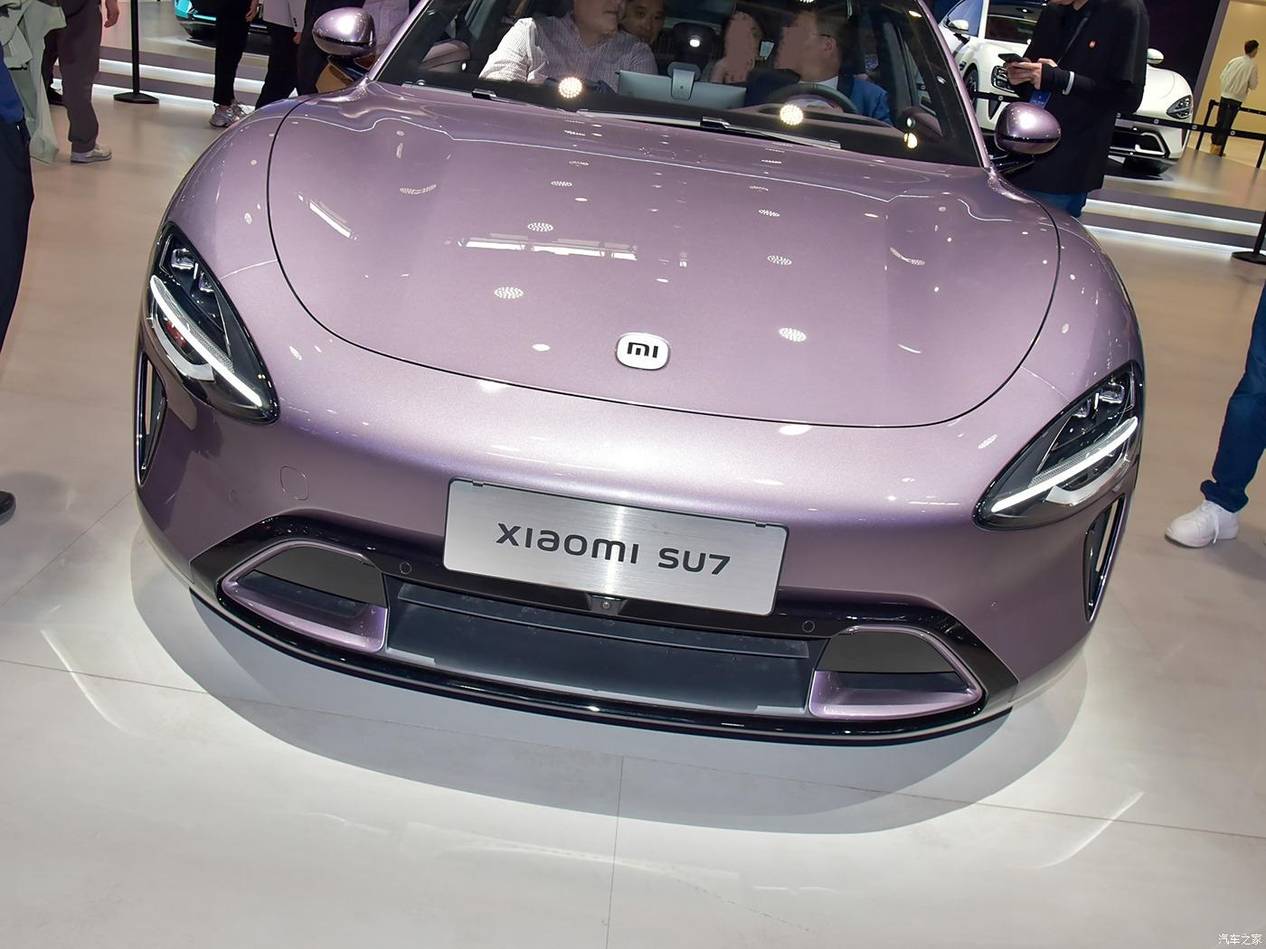XIAOMI: (616, 334, 670, 371)
